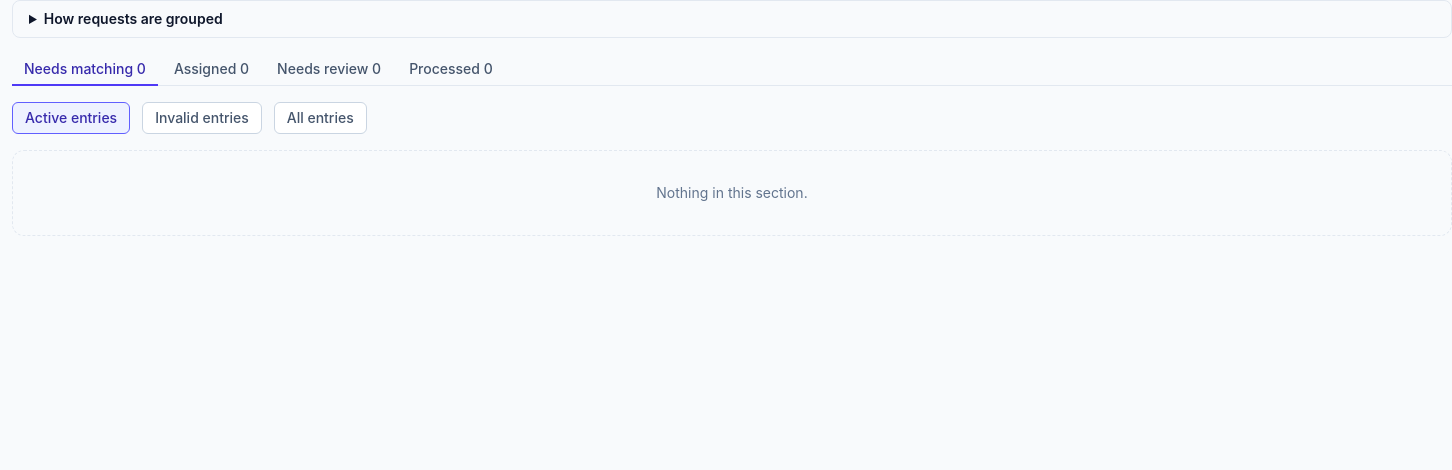
retains prior assignment evidence for an invalid request
The width and height of the screenshot is (1452, 470).
Click the button "Invalid entries" at [202, 118], box 142,102 -> 262,134
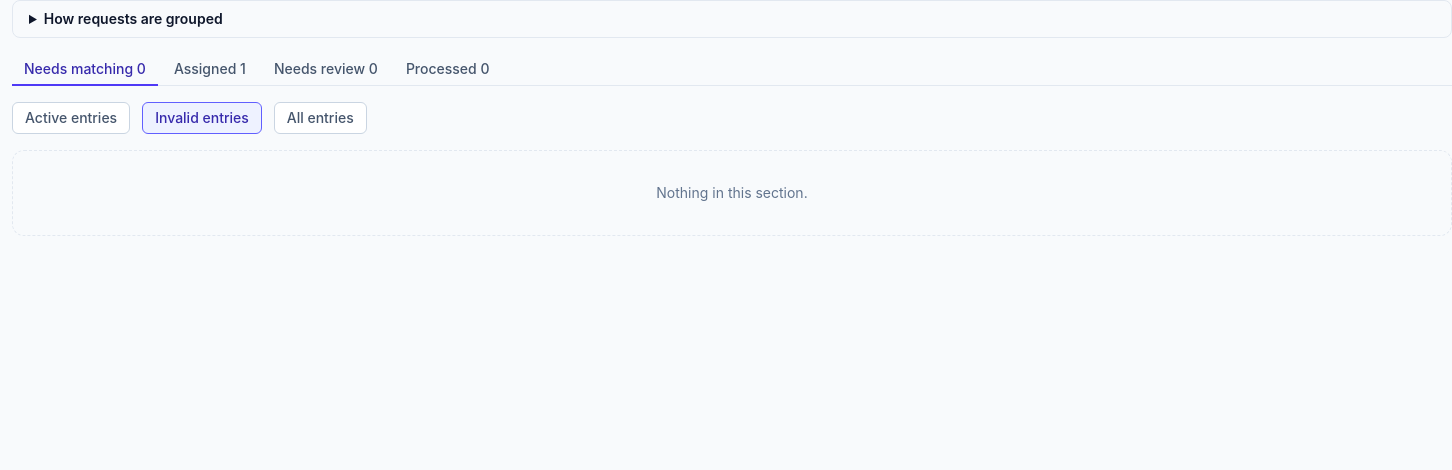
Click the tab "Assigned 1" at [210, 70], box 162,54 -> 258,86
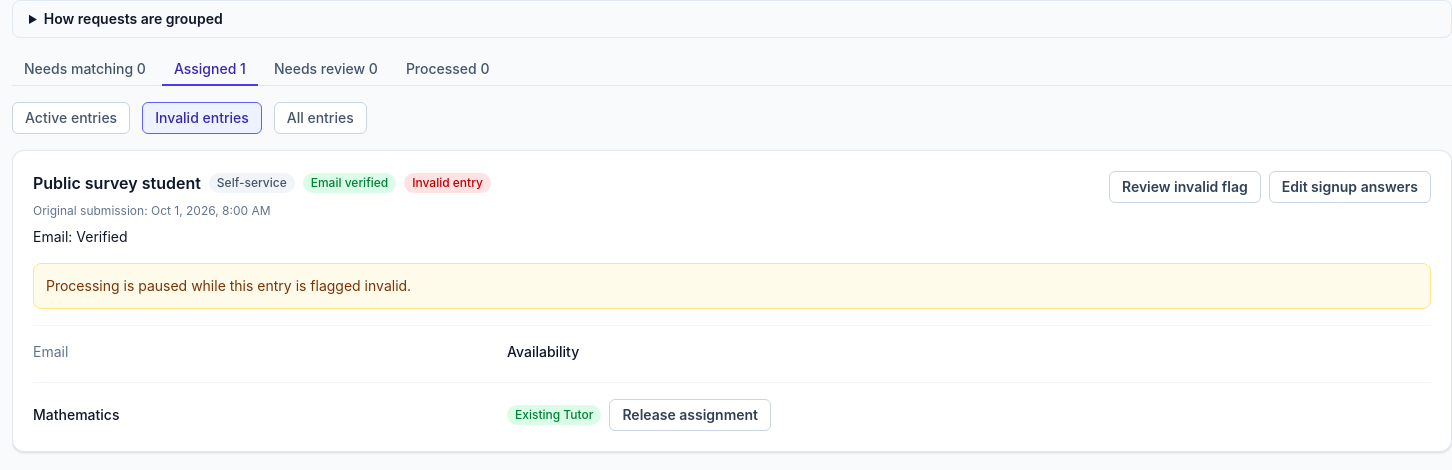
Result: the text "Existing Tutor" is shown at 507,405 -> 601,425
Result: the text "Invalid entry" is shown at 404,173 -> 491,193
